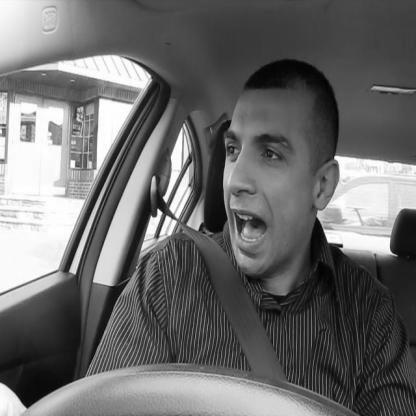seatbelt: (152, 60, 353, 409)
